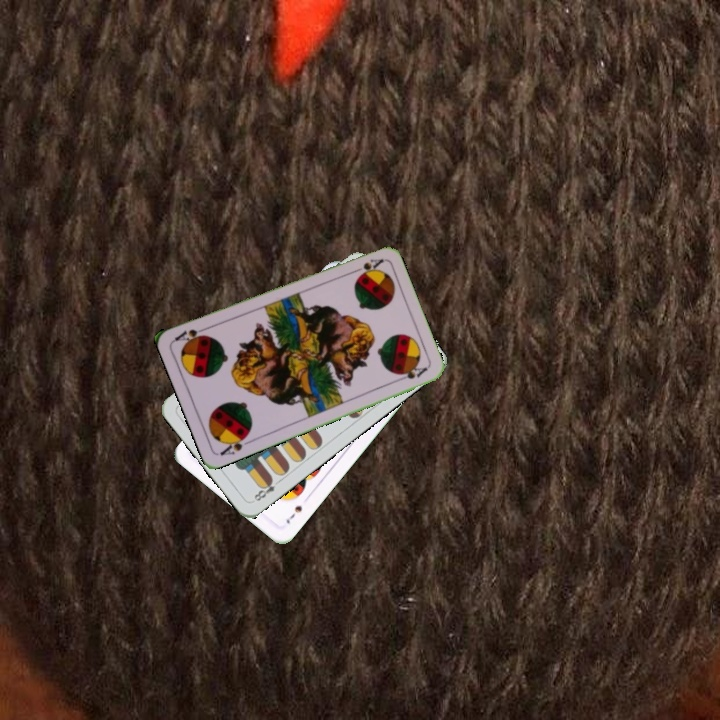E8: (250, 474, 284, 504)
S7: (282, 502, 305, 526)
SA: (216, 430, 255, 458), (346, 255, 386, 276)
